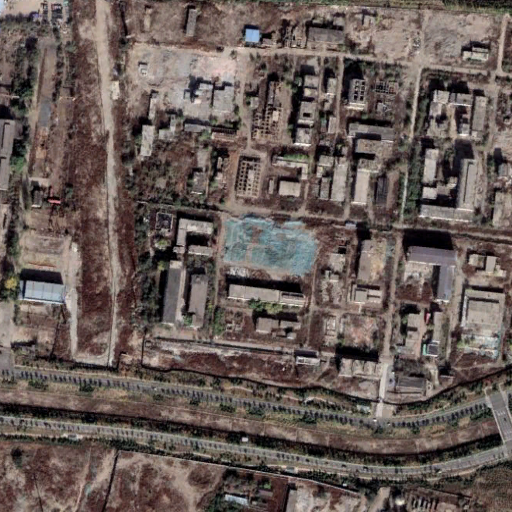cw: (223, 215, 320, 281)
